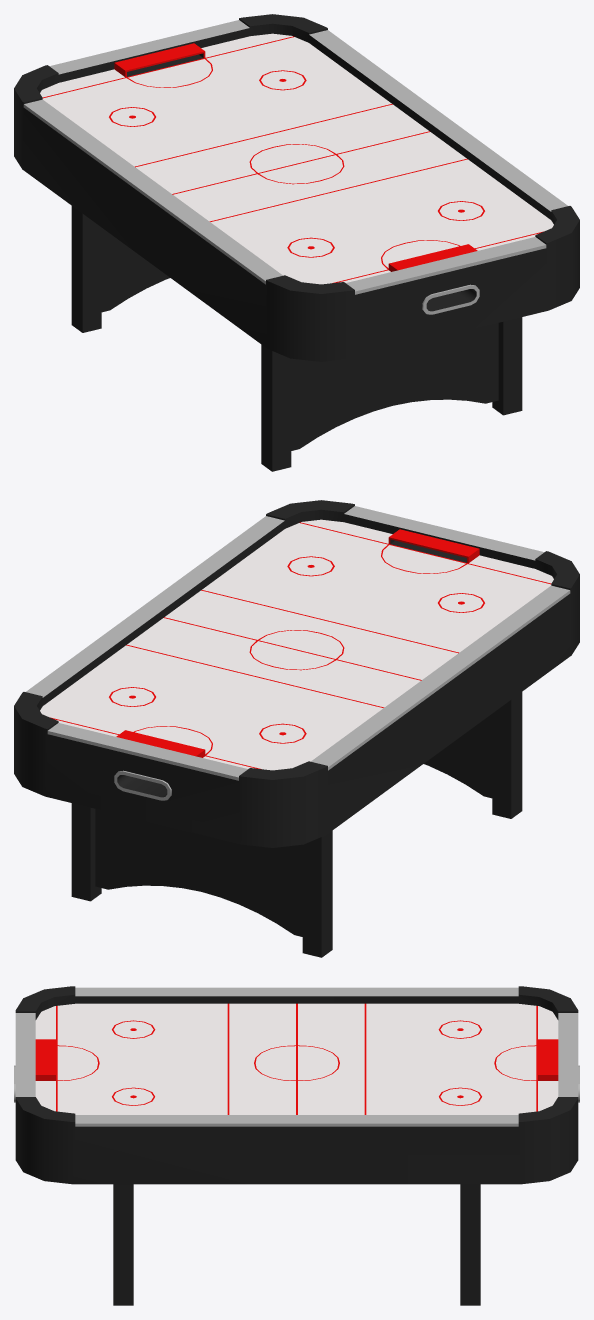
File: Table.dae
The picture shows the model from 3 angles, top to bottom: view 1: azimuth 30°, elevation 25°; view 2: azimuth 150°, elevation 25°; view 3: azimuth 270°, elevation 25°; orthographic projection. The views are drawn at different scales.
Parts seen in each view (by area): view 1: SketchUp (×26); view 2: SketchUp (×26); view 3: SketchUp (×26).
Part boxes in pixels (box(x1,y1,x2,y2)): SketchUp (×26): box(14, 14, 579, 471); SketchUp (×26): box(14, 500, 579, 957); SketchUp (×26): box(15, 986, 578, 1305).
Size of the model in its own units: 1041 by 1832 by 699.
